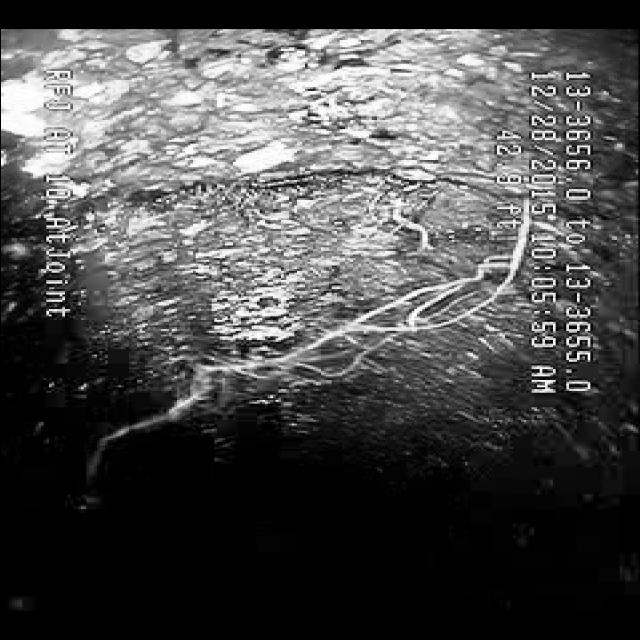Crack: (116, 154, 441, 254)
